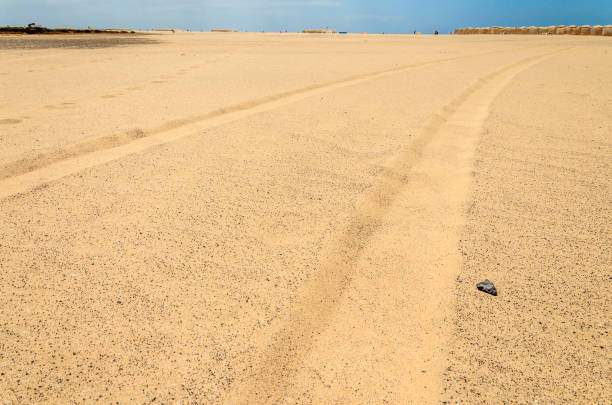vehicle_track: (226, 50, 562, 403), (0, 51, 495, 197)
